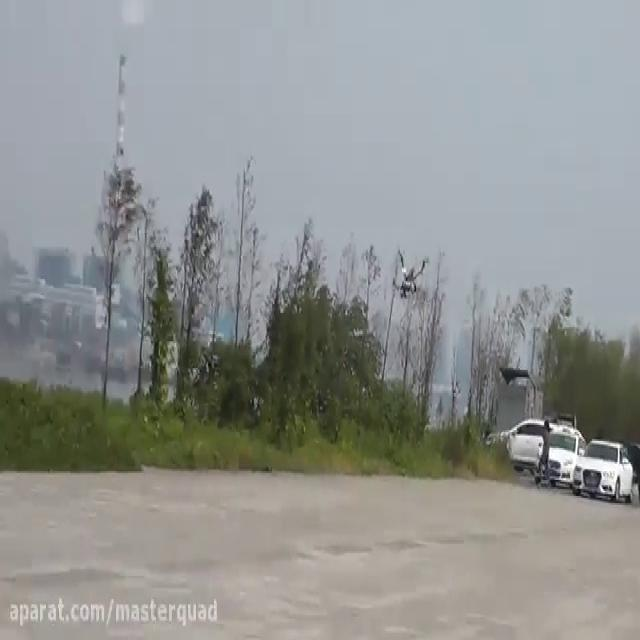drone: (391, 240, 432, 295)
